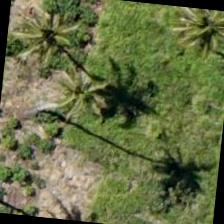Kelapa_Sawit: (3, 0, 98, 82), (163, 5, 223, 74)
